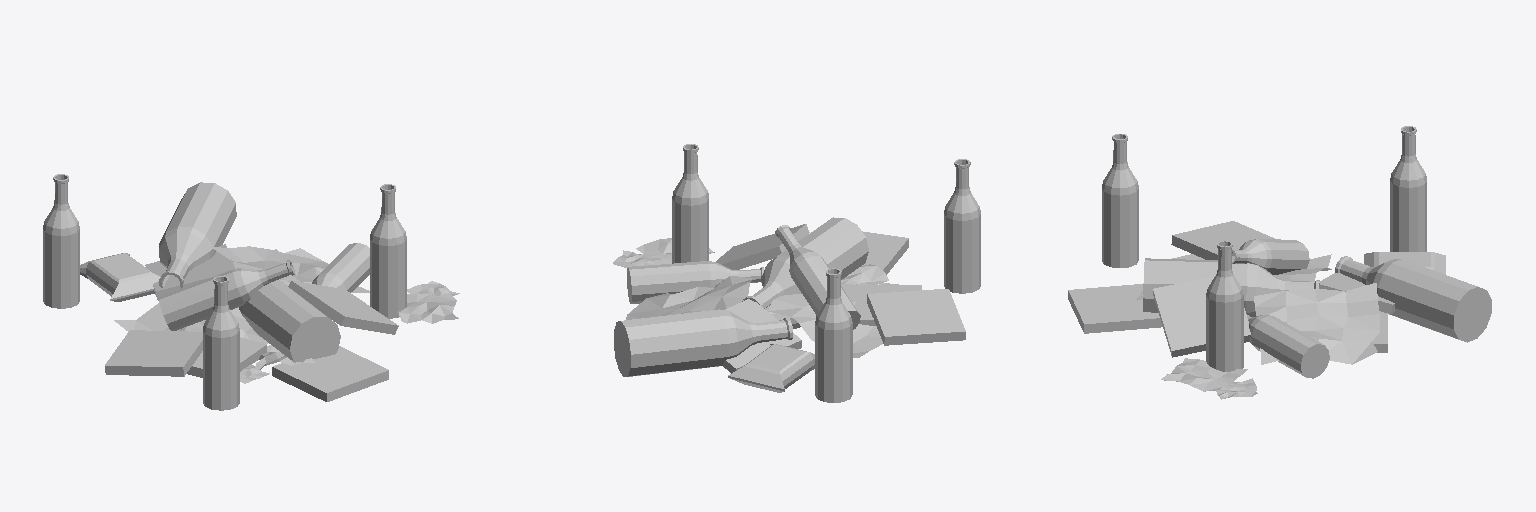
File: garbage.obj
The picture shows the model from 3 angles: view 1: azimuth 30°, elevation 25°; view 2: azimuth 150°, elevation 25°; view 3: azimuth 270°, elevation 25°; orthographic projection.
Bounding box in the file's own units: 3.8 × 1.31 × 3.99.